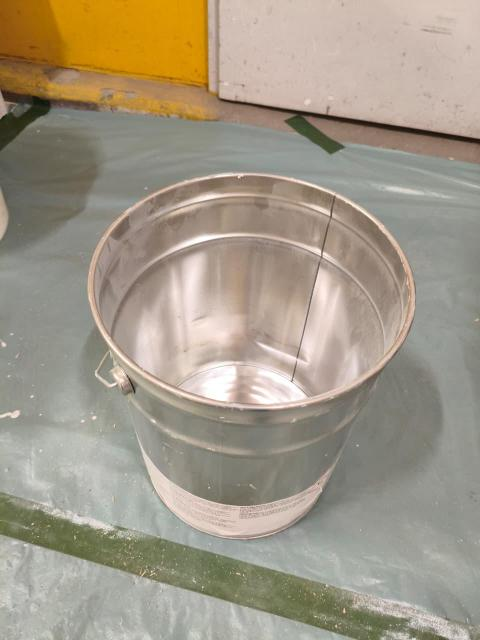Metal: (73, 172, 423, 543)
